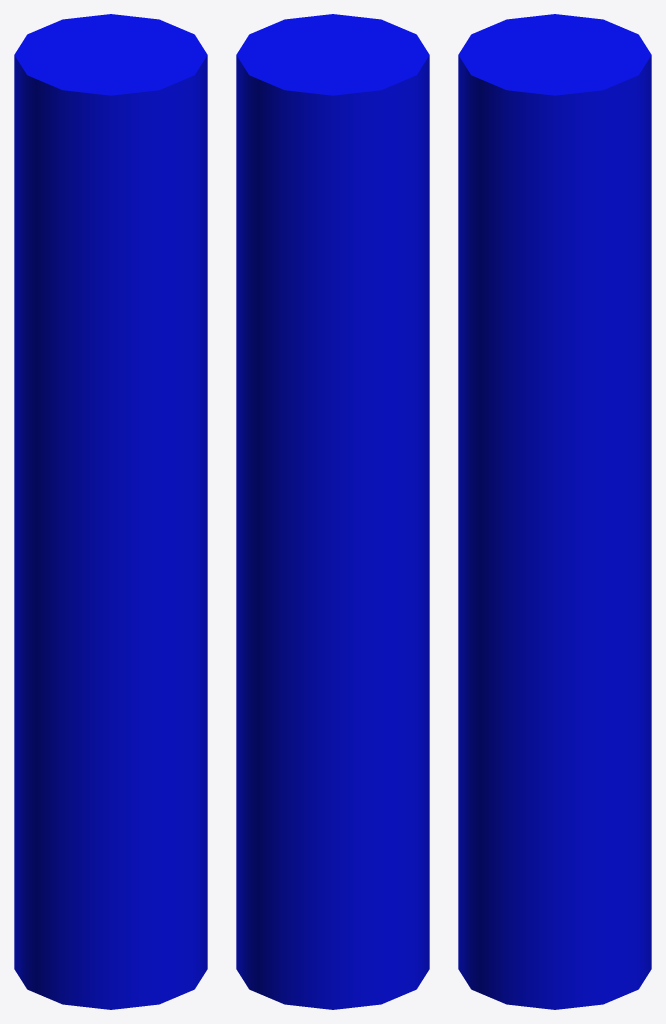
File: WaterCanIndicator.fbx
3 renders of one model, left to right at view 1: azimuth 30°, elevation 25°; view 2: azimuth 150°, elevation 25°; view 3: azimuth 270°, elevation 25°, orthographic.
Parts seen in each view (by area): view 1: Cylinder.005; view 2: Cylinder.005; view 3: Cylinder.005.
Part boxes in pixels (x1,y1,x2,y2): Cylinder.005: [14, 14, 207, 1009]; Cylinder.005: [236, 14, 429, 1009]; Cylinder.005: [458, 14, 651, 1009].
Size of the model in its own units: 16 by 83.49 by 16.
